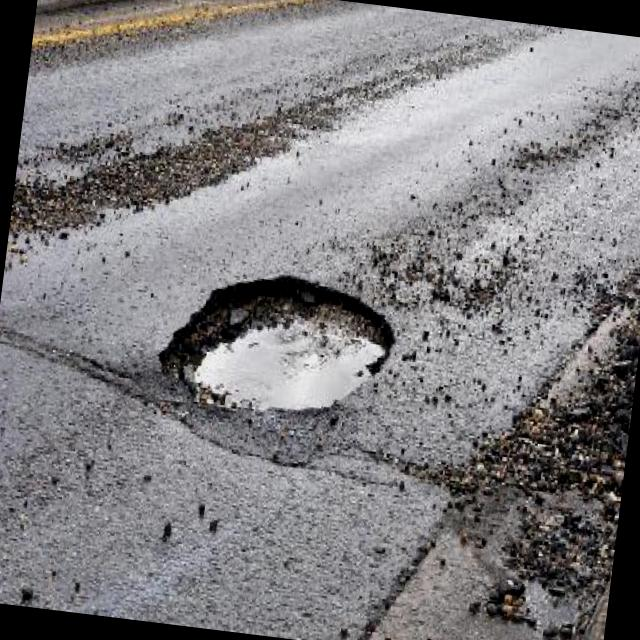Lubang: (160, 276, 393, 411)
